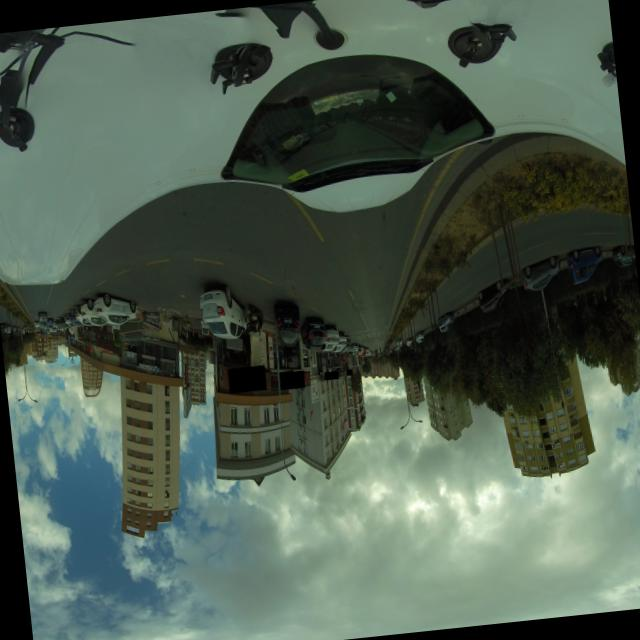SignStore: (226, 367, 265, 389), (278, 371, 304, 389), (323, 370, 337, 379), (345, 368, 351, 374)
